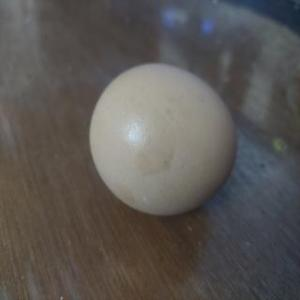egg: (85, 60, 243, 218)
